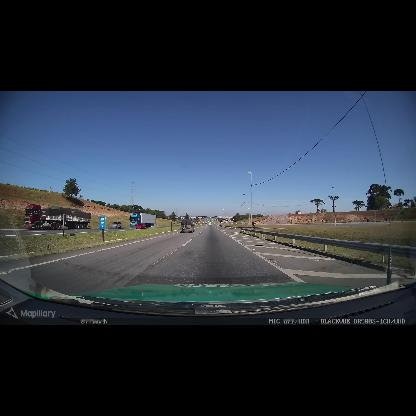R-2: (235, 223, 238, 225)
R-24a: (253, 221, 256, 225)
